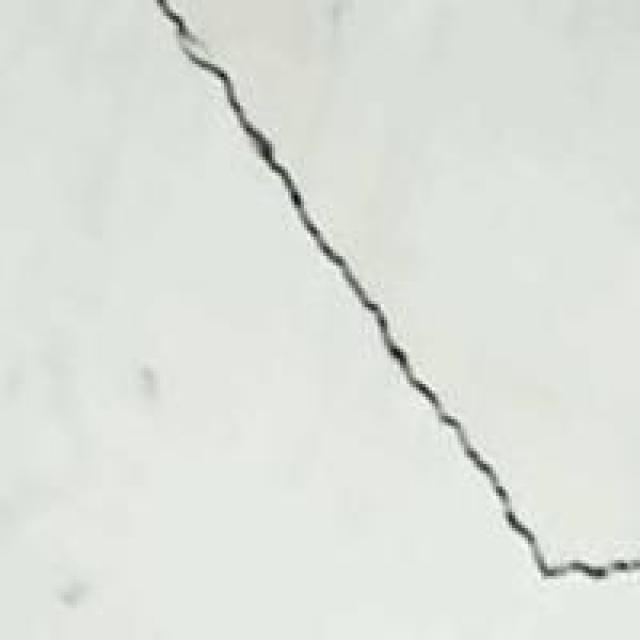Crack: (150, 0, 637, 592)
